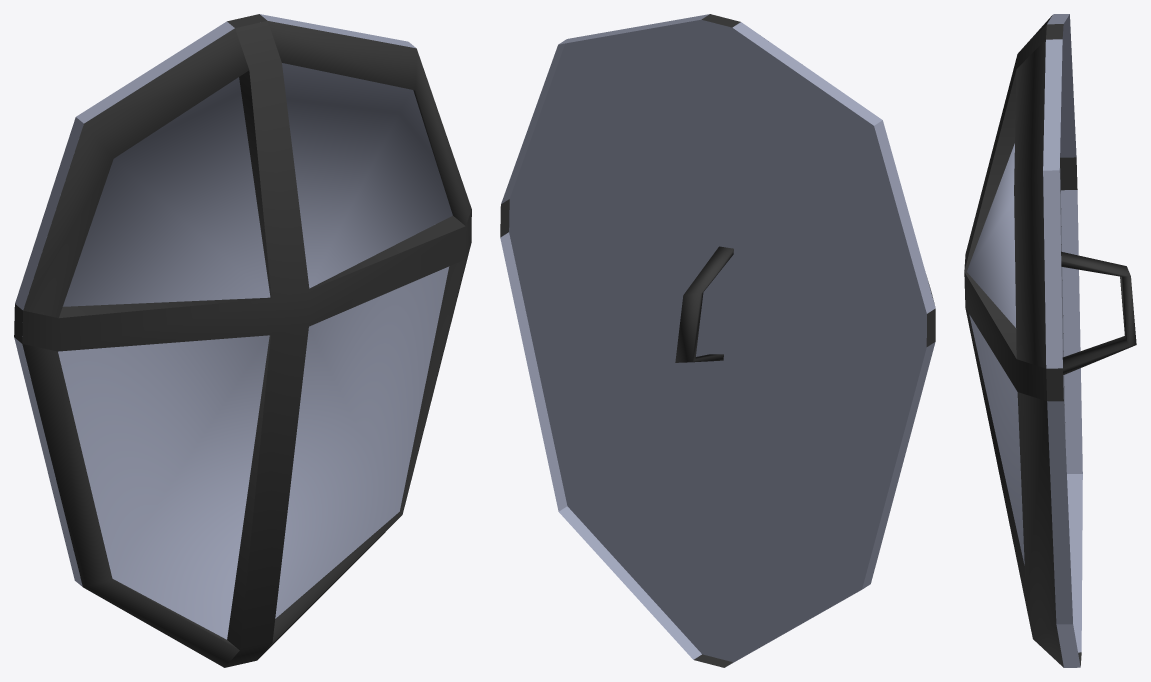
The model's file is steel_kiteshield.glb.
The picture shows the model from 3 angles, left to right: view 1: azimuth 30°, elevation 25°; view 2: azimuth 150°, elevation 25°; view 3: azimuth 270°, elevation 25°; orthographic projection. The views are drawn at different scales.
Parts seen in each view (by area): view 1: Steel Kiteshield; view 2: Steel Kiteshield; view 3: Steel Kiteshield.
Part boxes in pixels (x1,y1,x2,y2): Steel Kiteshield: (14,14,471,667); Steel Kiteshield: (500,14,935,667); Steel Kiteshield: (964,14,1136,667).
Bounding box in the file's own units: 0.381 × 0.532 × 0.132.
